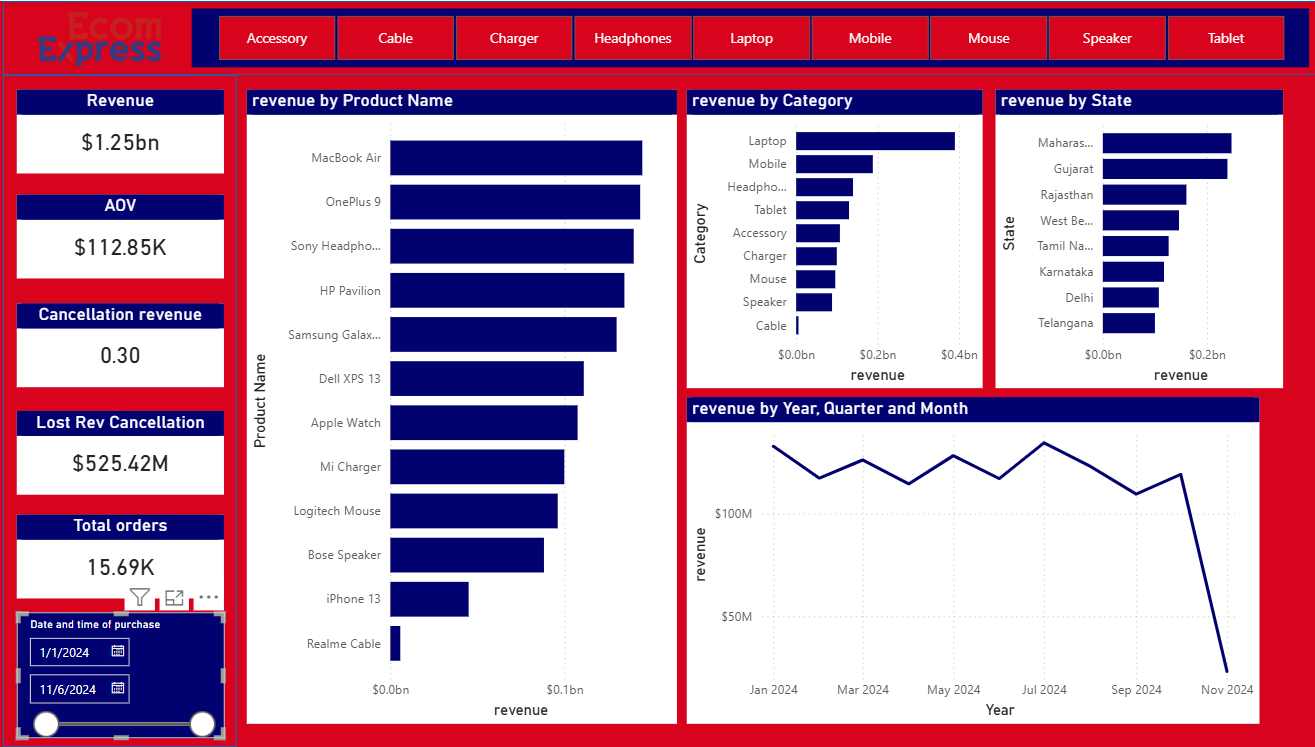

This screenshot's page, from the dashboard's own definition file:
{"tool":"powerbi","page":{"name":"Page 1","canvas":[1280,720],"ordinal":0},"visuals":[{"type":"shape","box":[9.7,71.2,225.6,649.1],"z":0},{"type":"shape","box":[9.6,0,1270.7,71.4],"z":1000},{"type":"image","box":[23.3,5.5,160.5,61.7],"z":2000},{"type":"barChart","fields":{"Y":["Table.revenue"],"Category":["Products.Product Name"]},"box":[244.9,85.7,415,611.7],"z":3000},{"type":"barChart","fields":{"Y":["Table.revenue"],"Category":["Products.Category"]},"box":[669.6,85.7,285.9,288.3],"z":4000},{"type":"lineChart","fields":{"Category":["Orders.Date and time of purchase.Variation.Date Hierarchy.Year","Orders.Date and time of purchase.Variation.Date Hierarchy.Quarter","Orders.Date and time of purchase.Variation.Date Hierarchy.Month","Orders.Date and time of purchase.Variation.Date Hierarchy.Day"],"Y":["Table.revenue"]},"box":[669.6,382.4,552.5,314.9],"z":5000},{"type":"barChart","fields":{"Category":["Customers.State"],"Y":["Table.revenue"]},"box":[967.6,85.7,277.5,288.3],"z":6000},{"type":"slicer","fields":{"Values":["Products.Category"]},"box":[191.8,7.2,1078.6,56.7],"z":7000},{"type":"card","title":"Revenue","fields":{"Values":["Table.revenue"]},"box":[22.9,85.7,200.3,80.8],"z":8000},{"type":"card","title":"Lost Rev Cancellation","fields":{"Values":["Table.lost_rev_cancellation"]},"box":[22.9,395.7,200.3,80.8],"z":9000},{"type":"card","title":"Cancellation revenue","fields":{"Values":["Table.cancellation rate"]},"box":[22.9,292,200.3,80.8],"z":10000},{"type":"card","title":"AOV","fields":{"Values":["Table.AOV"]},"box":[22.9,187,200.3,80.8],"z":11000},{"type":"card","title":"Total orders","fields":{"Values":["CountNonNull(Orders.OrderID)"]},"box":[22.9,495.8,200.3,80.8],"z":12000},{"type":"slicer","fields":{"Values":["Orders.Date and time of purchase"]},"box":[22.9,589.9,200.3,121.9],"z":13001}]}

Visuals, with their boxes in screenshot pixels (x1, y1, x2, y2), scaled from the page's 1280x720 canvas onto the 1315x747 screenshot:
shape: (10, 74, 242, 746)
shape: (10, 0, 1314, 74)
image: (24, 6, 189, 70)
barChart - Table.revenue x Products.Product Name: (252, 89, 678, 724)
barChart - Table.revenue x Products.Category: (688, 89, 982, 388)
lineChart - Orders.Date and time of purchase.Variation.Date Hierarchy.Year x Orders.Date and time of purchase.Variation.Date Hierarchy.Quarter: (688, 397, 1256, 723)
barChart - Customers.State x Table.revenue: (994, 89, 1279, 388)
slicer - Products.Category: (197, 7, 1305, 66)
"Revenue" card: (24, 89, 229, 173)
"Lost Rev Cancellation" card: (24, 411, 229, 494)
"Cancellation revenue" card: (24, 303, 229, 387)
"AOV" card: (24, 194, 229, 278)
"Total orders" card: (24, 514, 229, 598)
slicer - Orders.Date and time of purchase: (24, 612, 229, 738)
